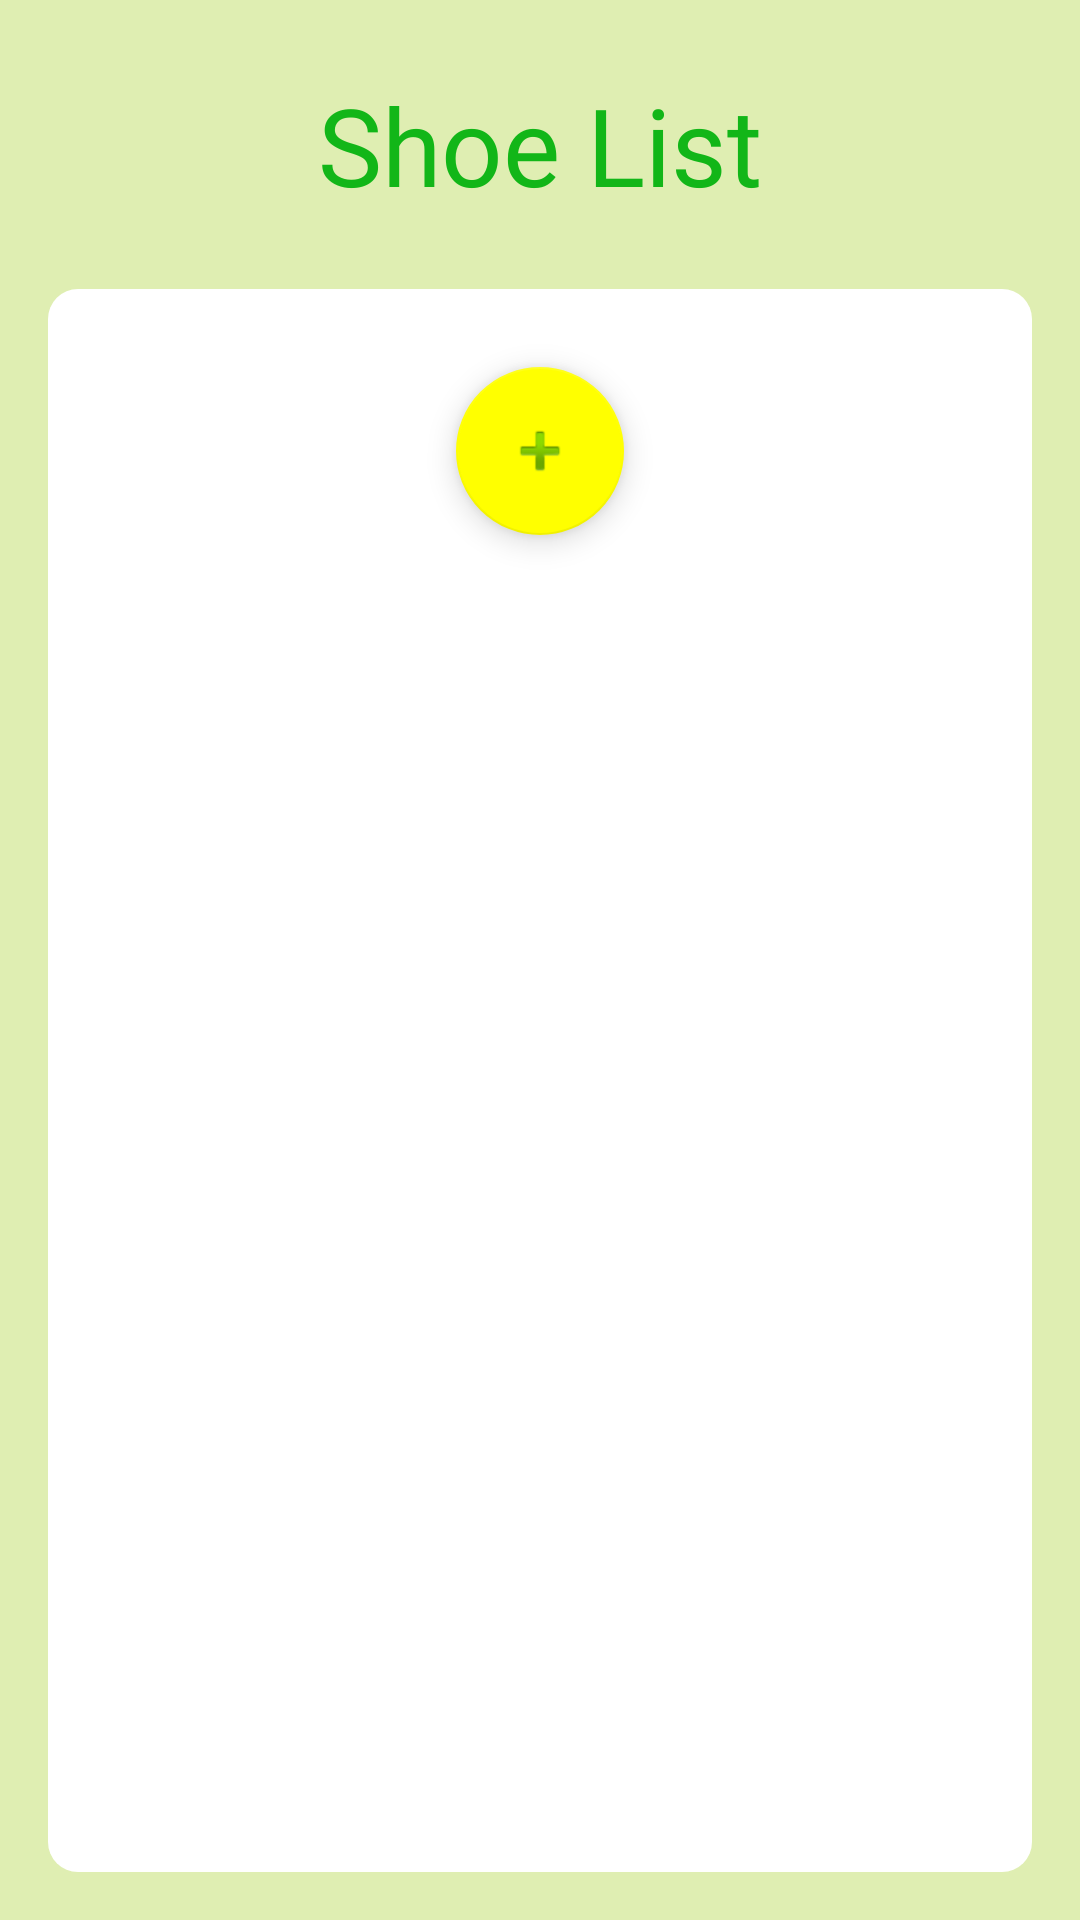

Named icons in this screenshot (1080 × 1920) and their centers, point (x, y):
add: point (540, 451)
